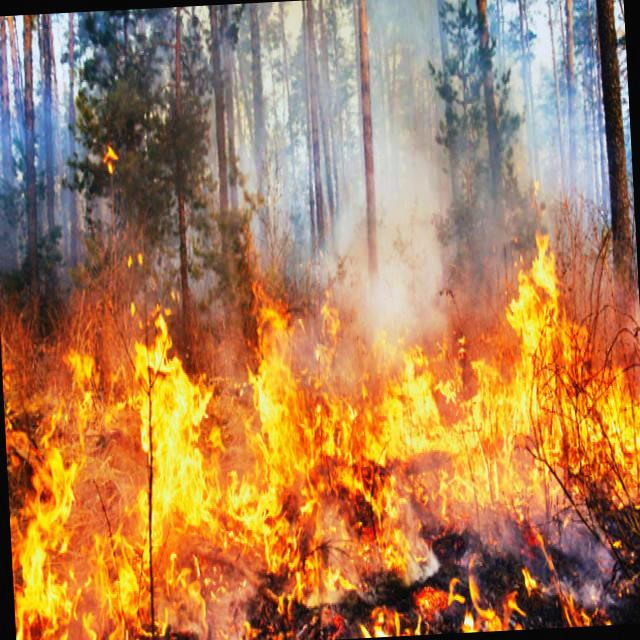api: (1, 299, 316, 640), (322, 340, 453, 612), (509, 252, 635, 514), (458, 324, 523, 535), (463, 567, 520, 640)
asap: (310, 10, 460, 319), (549, 520, 631, 604)
